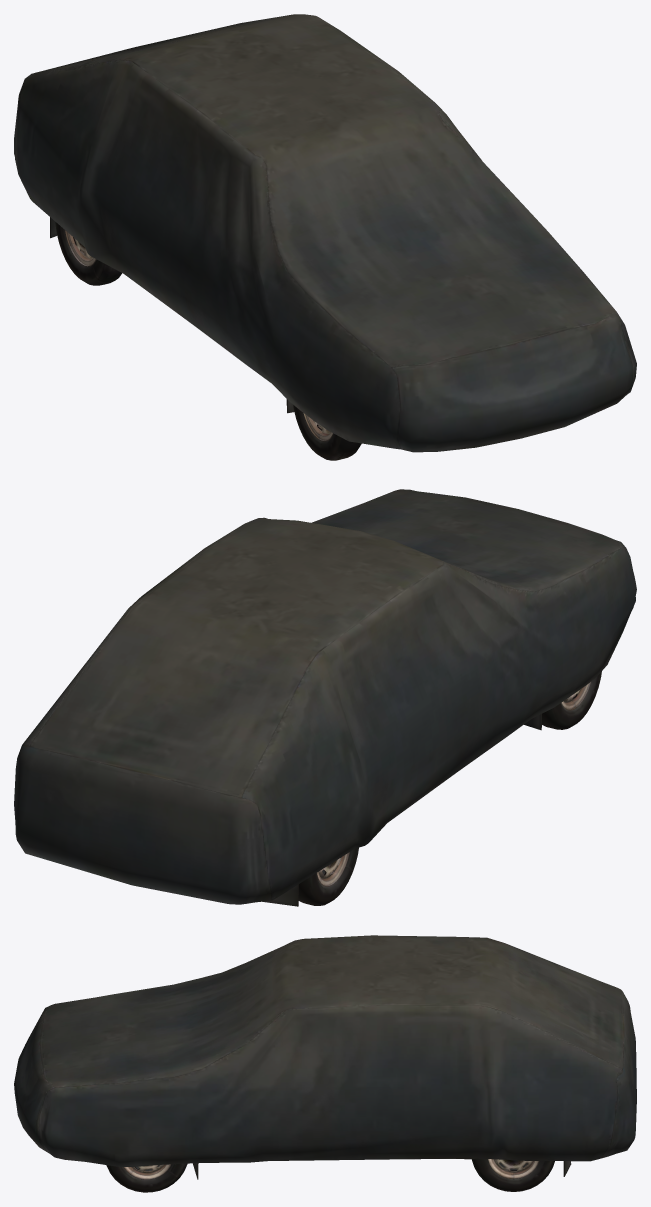
File: prop-debris-brokencar.glb
3 views of the same model, one above another, from view 1: azimuth 30°, elevation 25°; view 2: azimuth 150°, elevation 25°; view 3: azimuth 270°, elevation 25° (orthographic). The views are drawn at different scales.
Visible parts, largest first — view 1: prop-debris-brokencar (×3); view 2: prop-debris-brokencar (×3); view 3: prop-debris-brokencar (×3).
Part boxes in pixels (bbox=[...]): prop-debris-brokencar (×3): bbox=[14, 14, 636, 460]; prop-debris-brokencar (×3): bbox=[14, 489, 636, 906]; prop-debris-brokencar (×3): bbox=[14, 935, 636, 1192].
Bounding box in the file's own units: 2.23 × 1.76 × 5.46.
1 material, 1 textured.
